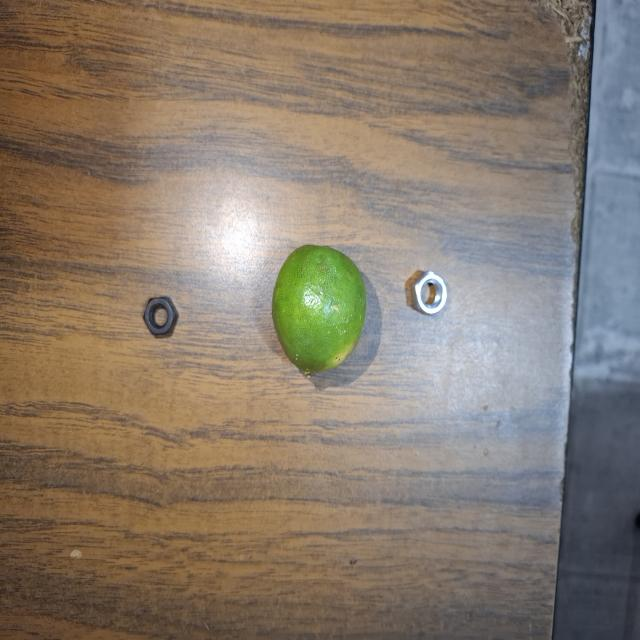limon: (266, 238, 370, 384)
milimetrico: (135, 282, 192, 350)
tuerca: (402, 265, 456, 327)
